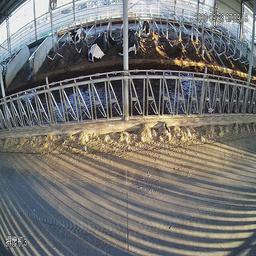cow: (89, 34, 118, 62), (64, 25, 86, 44), (136, 13, 151, 38)
